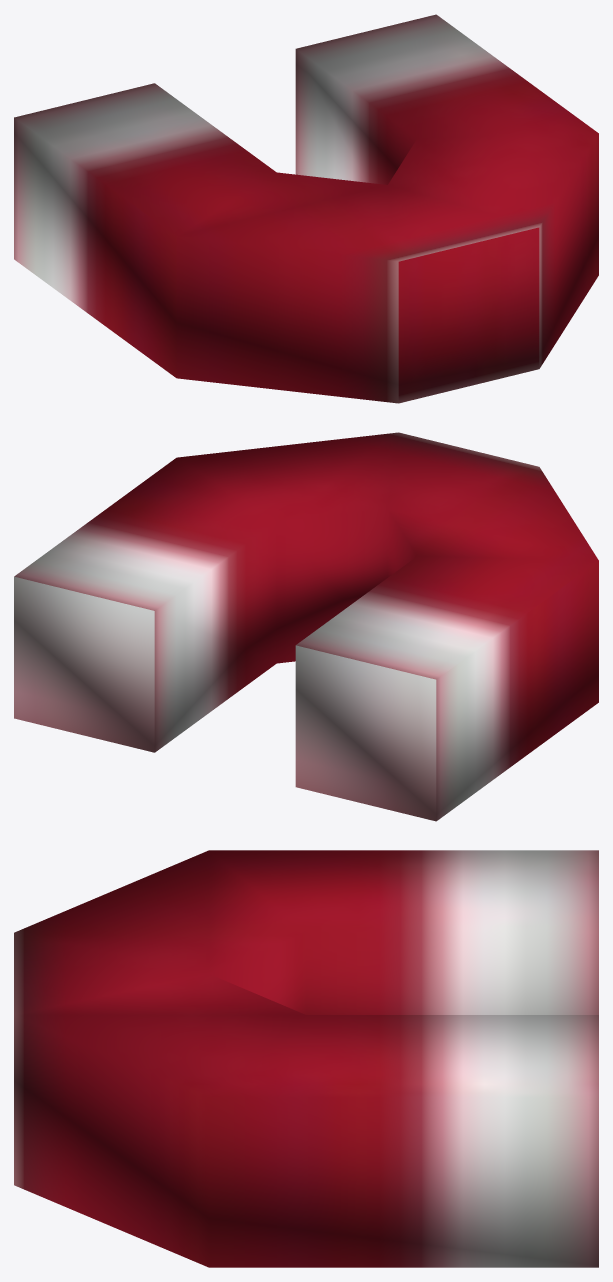
File: magnet.obj
3 views of the same model, one above another, from view 1: azimuth 30°, elevation 25°; view 2: azimuth 150°, elevation 25°; view 3: azimuth 270°, elevation 25° (orthographic). The views are drawn at different scales.
Visible parts, largest first — view 1: Object_magnet; view 2: Object_magnet; view 3: Object_magnet.
Part boxes in pixels (x1=…): Object_magnet: x1=14, y1=14, x2=598, y2=403; Object_magnet: x1=14, y1=432, x2=598, y2=821; Object_magnet: x1=14, y1=850, x2=598, y2=1267.
Bounding box in the file's own units: 1.5 × 0.4813 × 1.5.
Materials: 1 (1 with a texture image).
